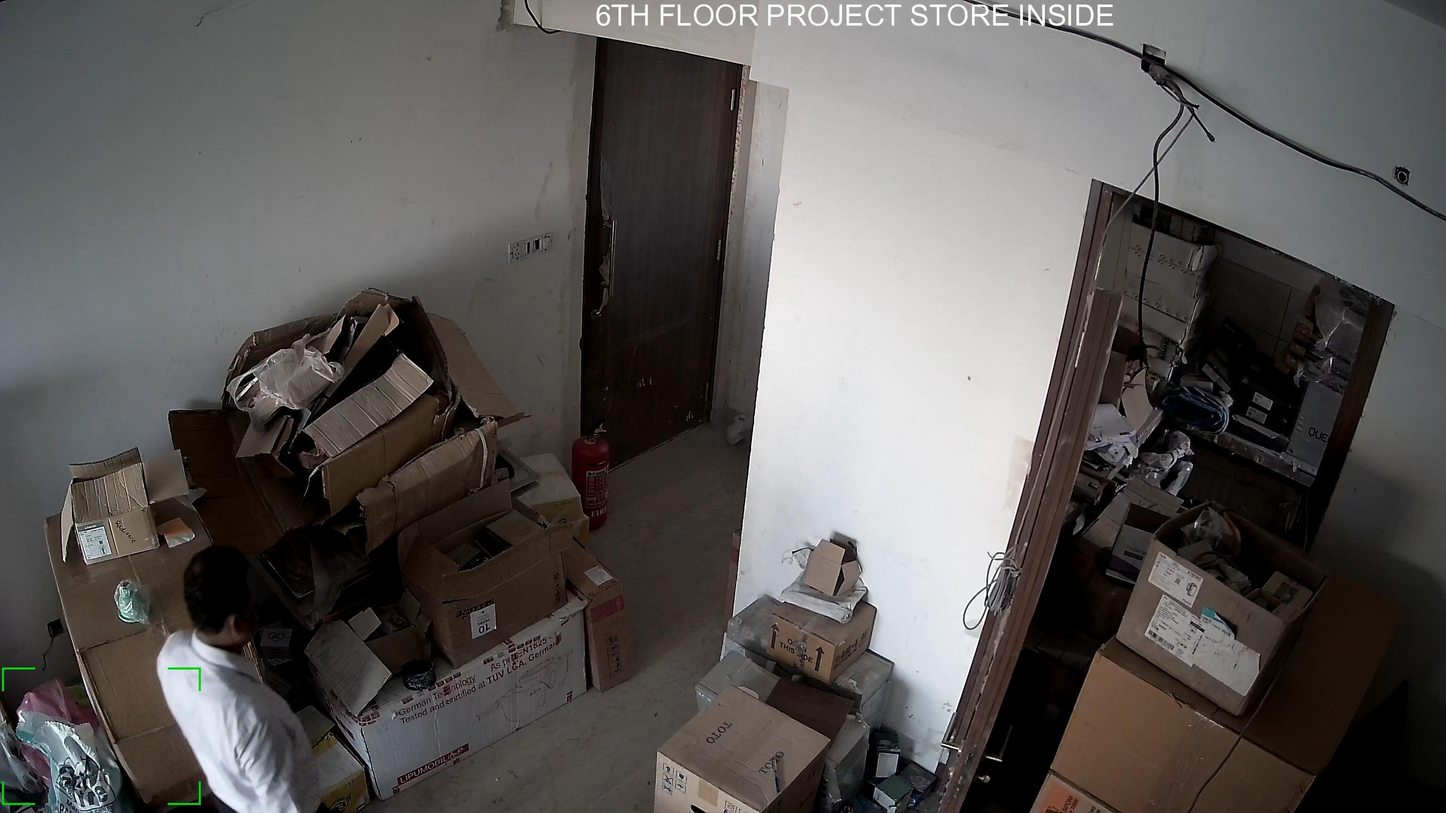Door-Close: (575, 29, 745, 484)
